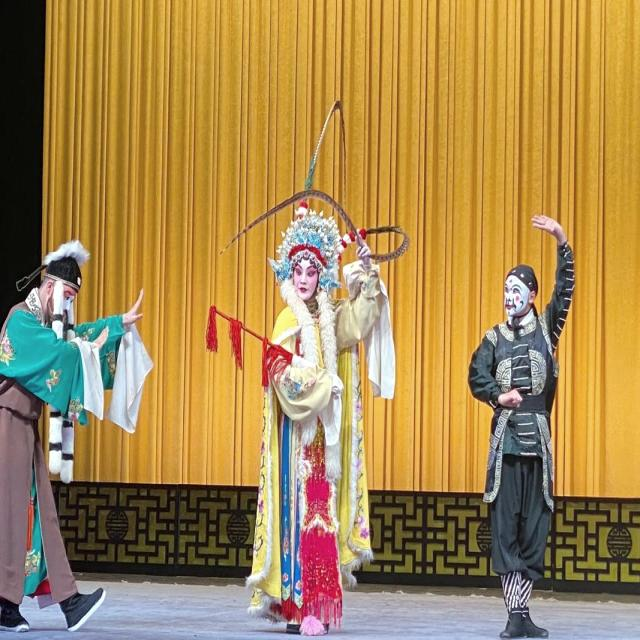Reeves-s Pheasant: (224, 101, 359, 249), (363, 226, 410, 262)
